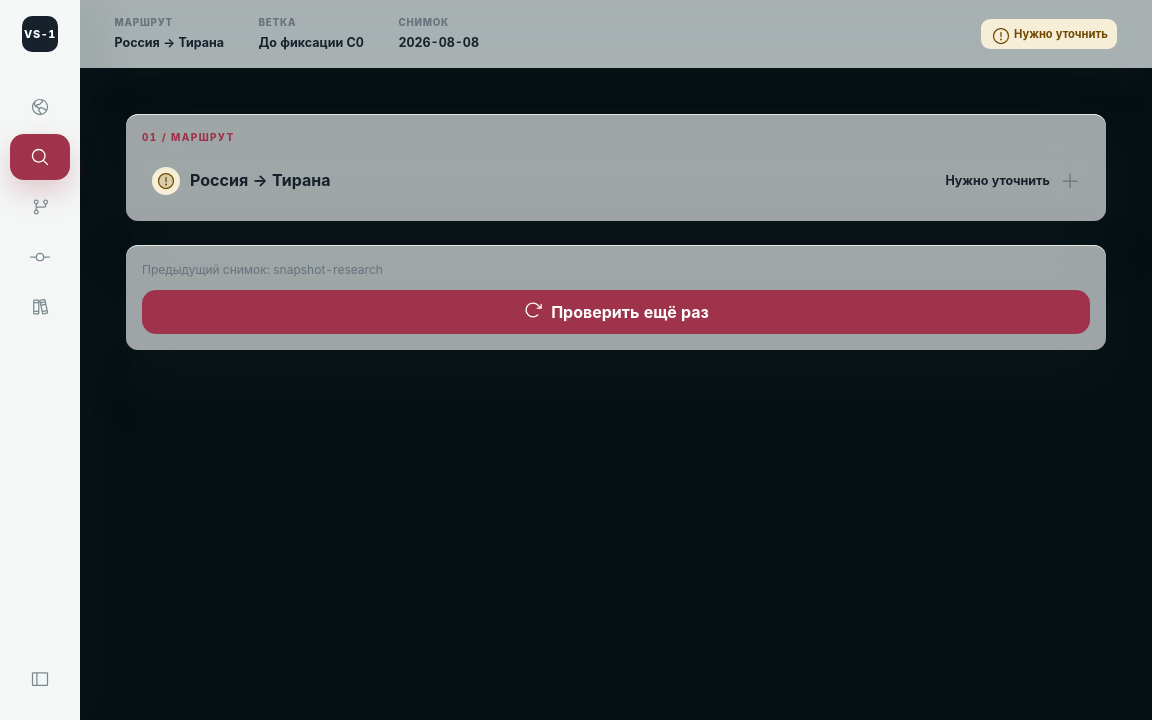
journey action pending states › opens a yellow journey in Research with its reason and retry available
Check: the button "Проверить ещё раз" is shown, box [142,290,1090,334]
Click the button "Россия → Тирана Нужно уточнить".
click(260, 180)  # box [142,157,1090,205]
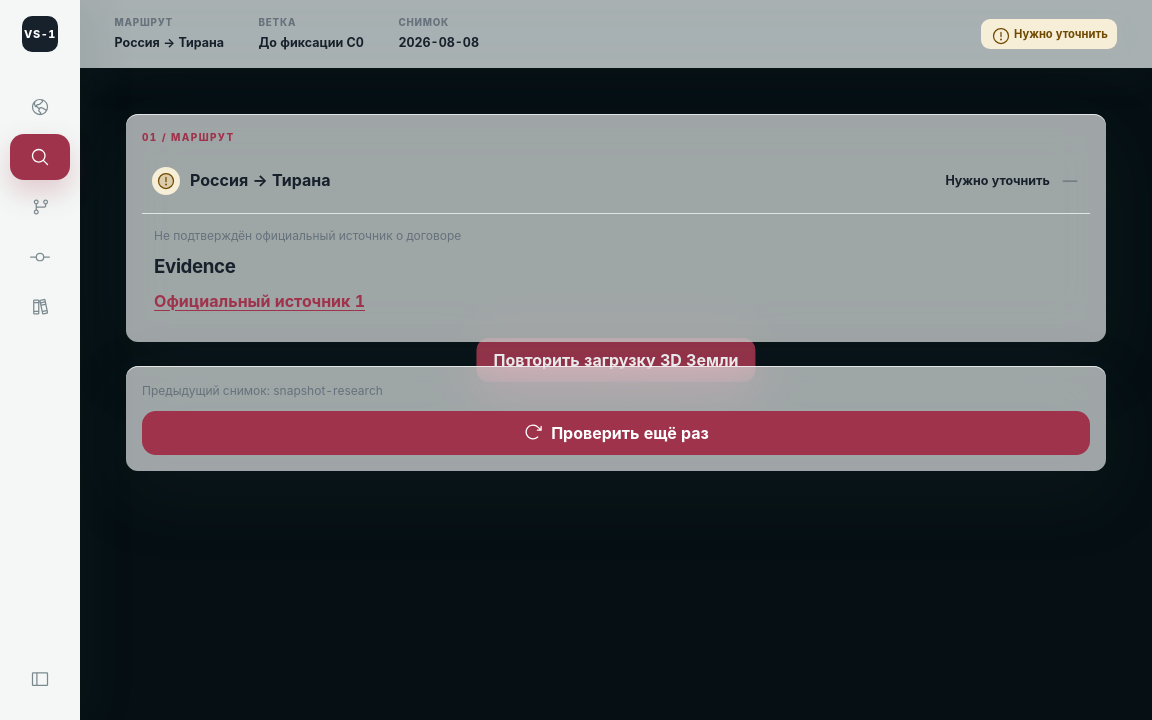
Check: the text "Не подтверждён официальный источник о договоре" is shown, box [154,228,461,243]
